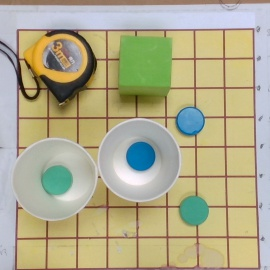blue: (176, 105, 205, 135)
cup_blue: (98, 118, 182, 204)
cup_green: (12, 137, 98, 222)
green: (180, 196, 209, 226)
